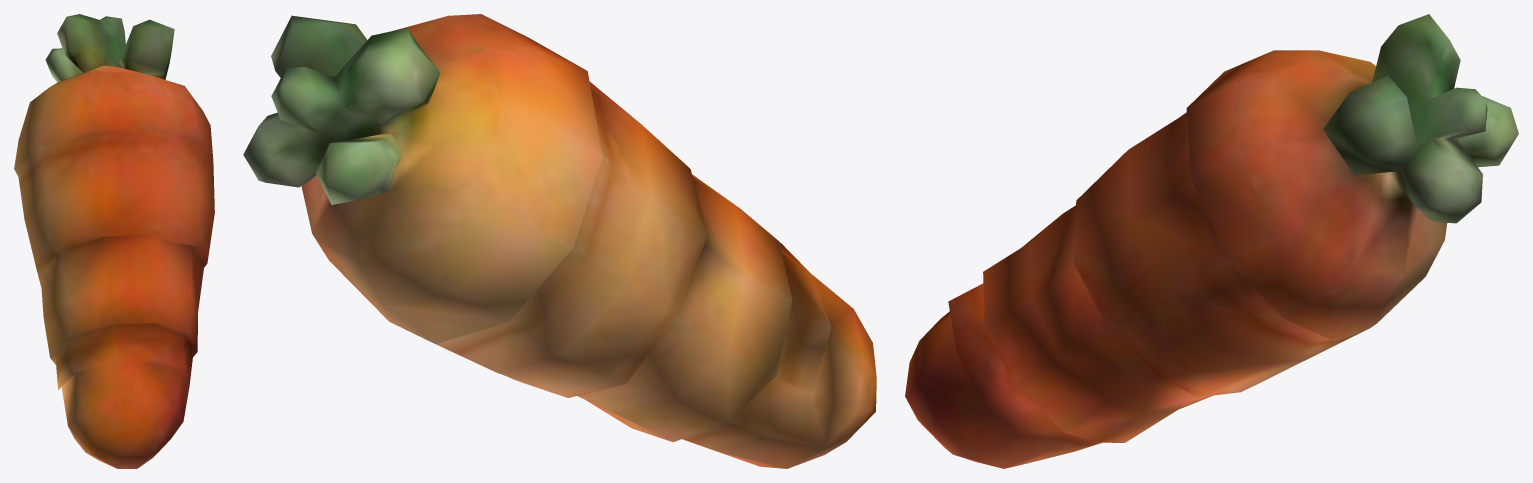
The model's file is carrots.glb.
3 renders of one model, left to right at view 1: azimuth 30°, elevation 25°; view 2: azimuth 150°, elevation 25°; view 3: azimuth 270°, elevation 25°, orthographic. The views are drawn at different scales.
Visible parts, largest first — view 1: Carrots; view 2: Carrots; view 3: Carrots.
Part boxes in pixels (<box>): Carrots: <box>14,14,214,468</box>; Carrots: <box>243,14,876,468</box>; Carrots: <box>905,14,1518,468</box>.
Size of the model in its own units: 1.09 by 1.51 by 1.64.
Materials: 1 (1 with a texture image).
